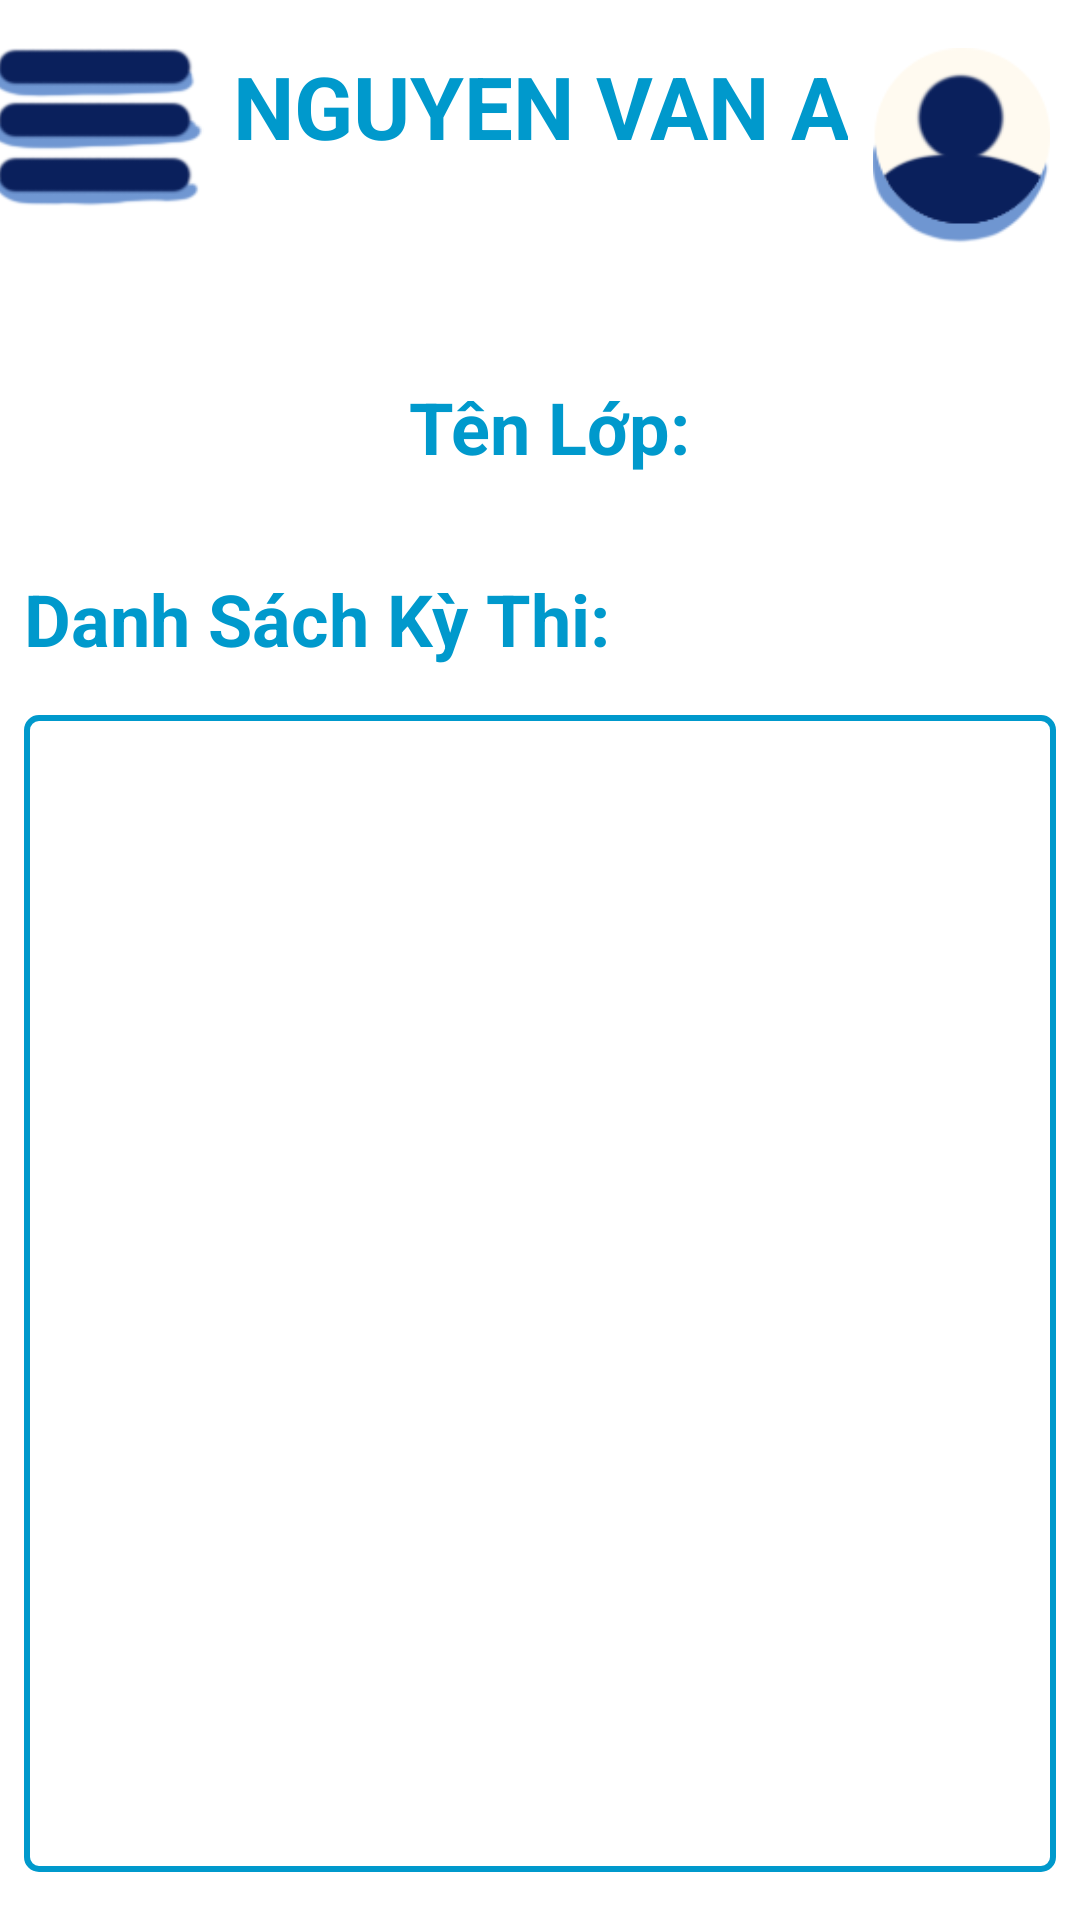

Screen size 1080*1920. Icon name, then its center in pixels as (x,y):
menu: (101,127)
user: (960,157)
